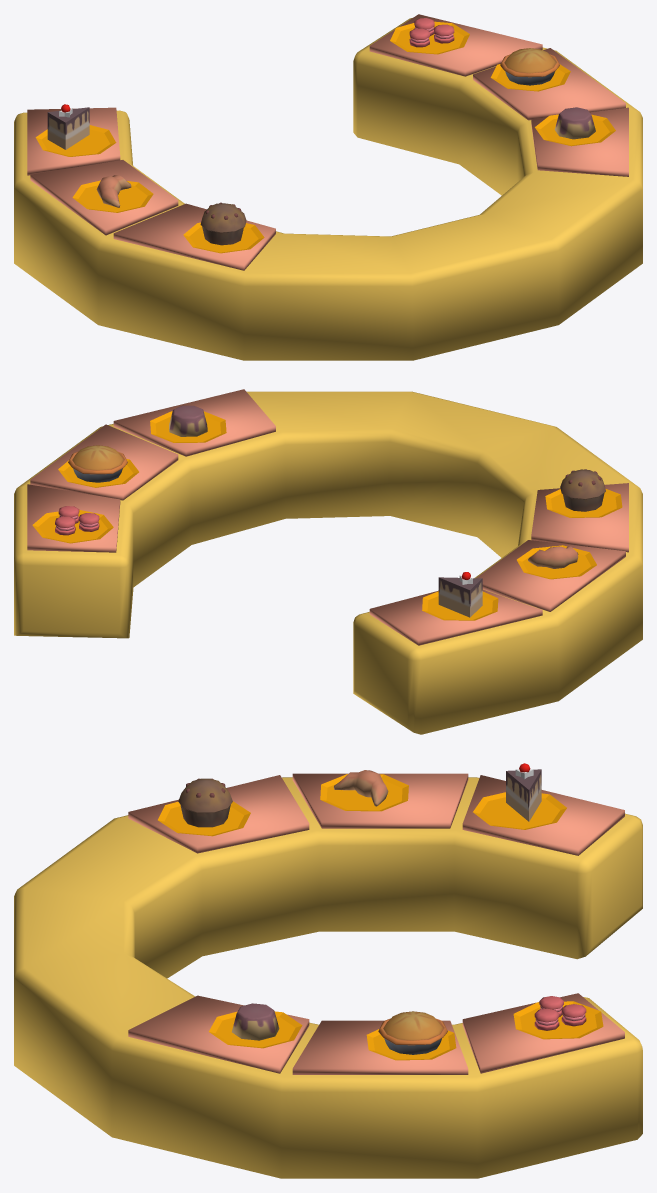
File: Finish_Table.fbx
3 views of the same model, one above another, from view 1: azimuth 30°, elevation 25°; view 2: azimuth 150°, elevation 25°; view 3: azimuth 270°, elevation 25° (orthographic). The views are drawn at different scales.
Visible parts, largest first — view 1: Table, Plate Big, Cylinder.001, cupcake, Plate.001, Pasta, Plate, Plate.003, Plate.002, Plate.005, Cake, Plate.004 (+1 smaller); view 2: Table, Plate Big, Cylinder.001, cupcake, Pasta, Plate.001, Plate.003, Plate.002, Plate.005, Plate, Cake, Kruvasan (+1 smaller); view 3: Table, Plate Big, Cylinder.001, cupcake, Plate, Plate.001, Plate.003, Plate.002, Plate.005, Cake, Pasta, Kruvasan (+1 smaller).
Boxes of the visible parts, x1,y1,x2,y2 form: Table: [14, 18, 642, 360]; Plate Big: [27, 14, 628, 270]; Cylinder.001: [500, 48, 559, 85]; cupcake: [200, 203, 246, 245]; Plate.001: [72, 180, 153, 212]; Pasta: [47, 107, 89, 149]; Plate: [35, 125, 116, 156]; Plate.003: [390, 21, 469, 54]; Plate.002: [535, 114, 615, 146]; Plate.005: [183, 222, 264, 253]; Cake: [554, 107, 595, 139]; Plate.004: [490, 64, 570, 91]; Table: [14, 391, 642, 734]; Plate Big: [27, 389, 628, 645]; Cylinder.001: [68, 445, 127, 482]; cupcake: [560, 469, 605, 511]; Pasta: [438, 577, 482, 617]; Plate.001: [517, 545, 596, 579]; Plate.003: [32, 510, 113, 543]; Plate.002: [150, 411, 226, 442]; Plate.005: [545, 489, 622, 517]; Plate: [422, 591, 498, 620]; Cake: [169, 405, 207, 436]; Kruvasan: [528, 546, 578, 568]; Table: [14, 777, 642, 1178]; Plate Big: [128, 773, 624, 1074]; Cylinder.001: [378, 1011, 447, 1054]; cupcake: [178, 778, 232, 827]; Plate: [473, 792, 566, 829]; Plate.001: [320, 774, 408, 811]; Plate.003: [513, 1001, 603, 1039]; Plate.002: [209, 1011, 302, 1048]; Plate.005: [158, 801, 250, 836]; Cake: [232, 1003, 279, 1040]; Pasta: [506, 769, 541, 821]; Kruvasan: [333, 770, 388, 806].
Size of the model in its own units: 1.69 by 0.3747 by 1.45.
Materials: 13 (5 with a texture image).
